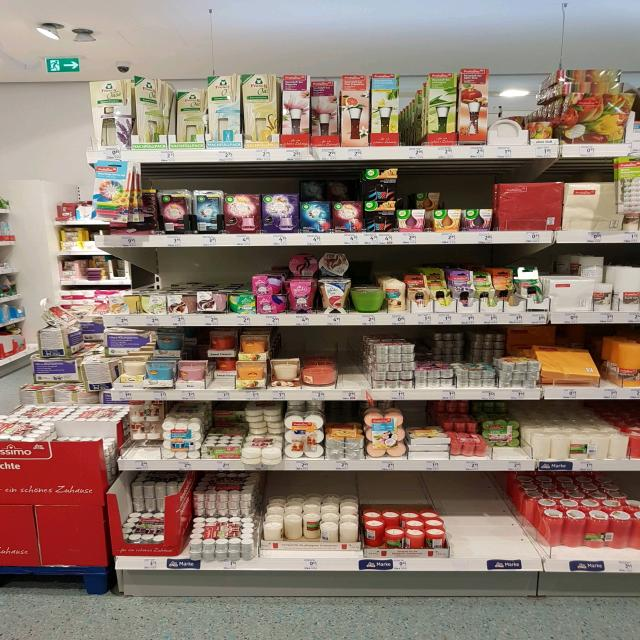void: (449, 470, 484, 572), (480, 471, 514, 573), (512, 470, 538, 572), (339, 325, 369, 401)
